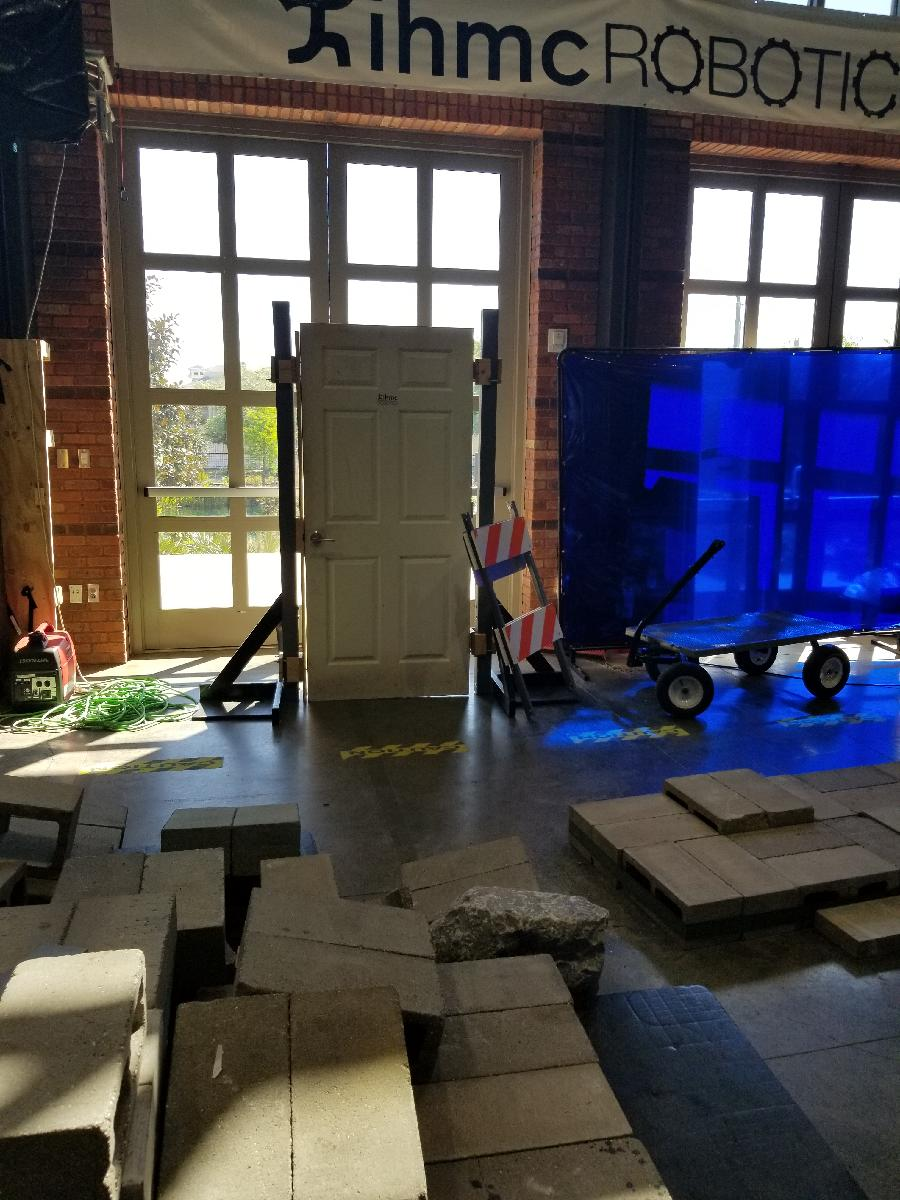door: (297, 320, 478, 709)
doorHandle: (307, 527, 338, 548)
